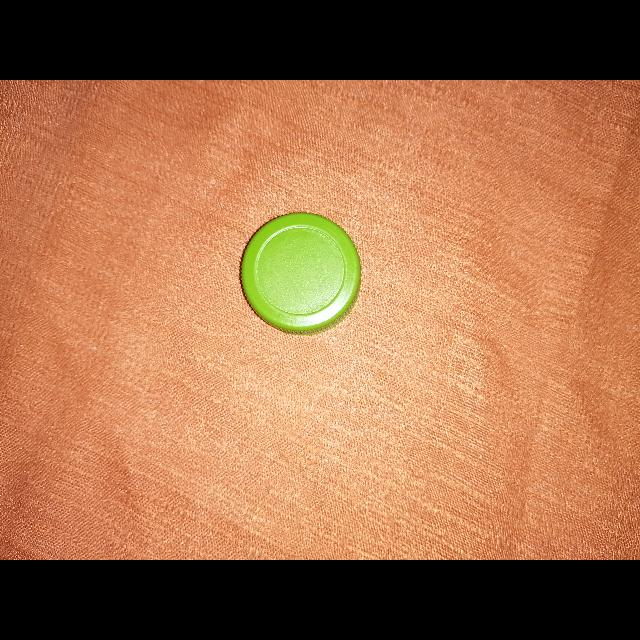plastic_bottle_cap: (240, 212, 362, 336)
